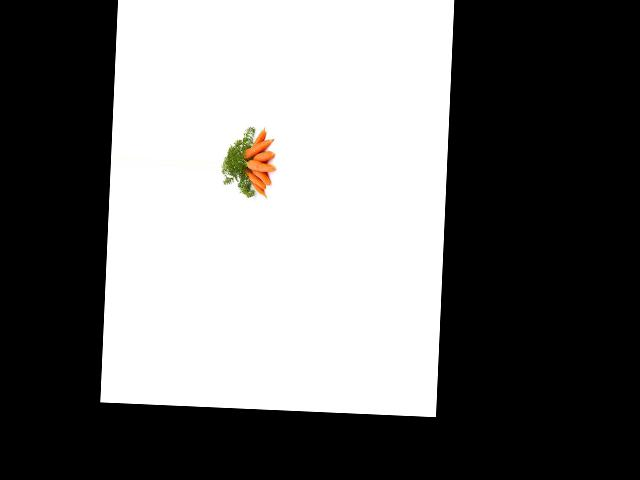carrot: (250, 128, 269, 151)
